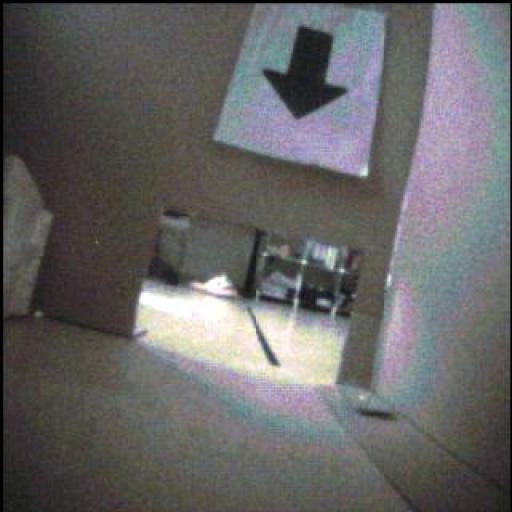arrow: (265, 29, 348, 120)
